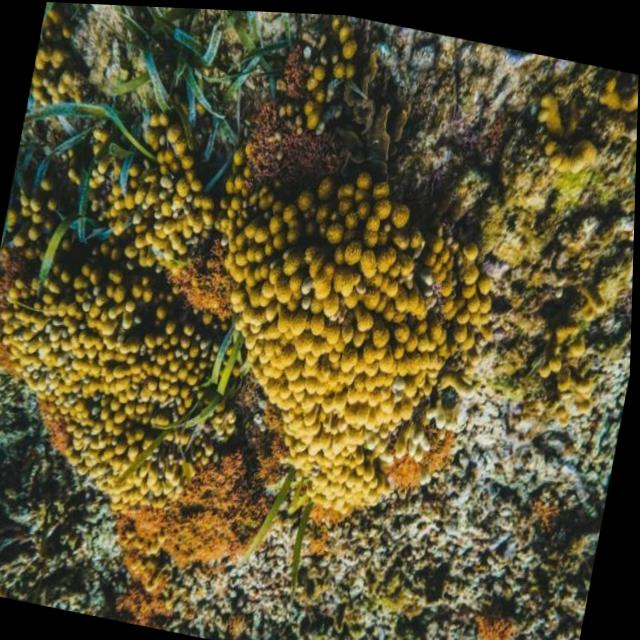Healthy Coral: (0, 58, 523, 538)
